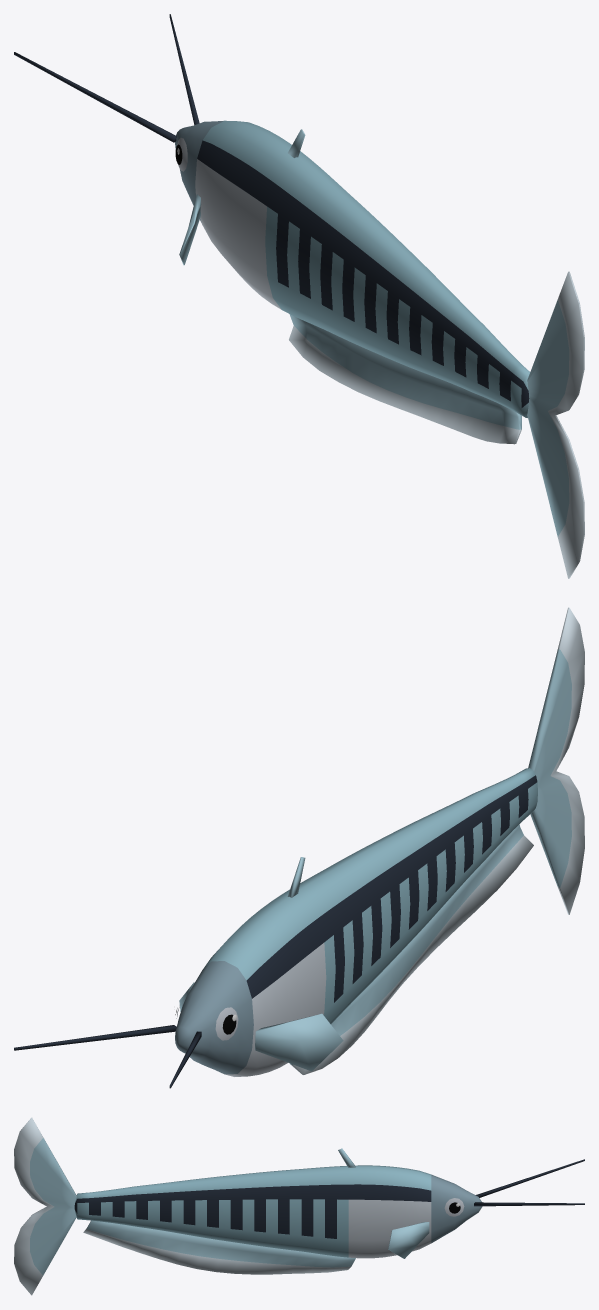
The model's file is glass_catfish.glb.
The picture shows the model from 3 angles, top to bottom: view 1: azimuth 30°, elevation 25°; view 2: azimuth 150°, elevation 25°; view 3: azimuth 270°, elevation 25°; orthographic projection. The views are drawn at different scales.
Visible parts, largest first — view 1: glass_catfish; view 2: glass_catfish; view 3: glass_catfish.
Part boxes in pixels (x1,y1,x2,y2): glass_catfish: [14, 14, 584, 578]; glass_catfish: [14, 607, 584, 1088]; glass_catfish: [14, 1117, 584, 1295].
Bounding box in the file's own units: 0.5487 × 0.9803 × 2.85.
